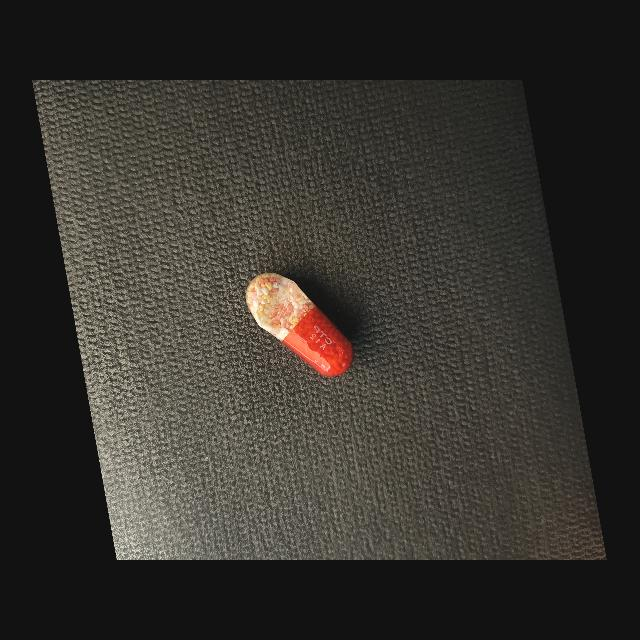Defective Capsule: (246, 273, 354, 377)
